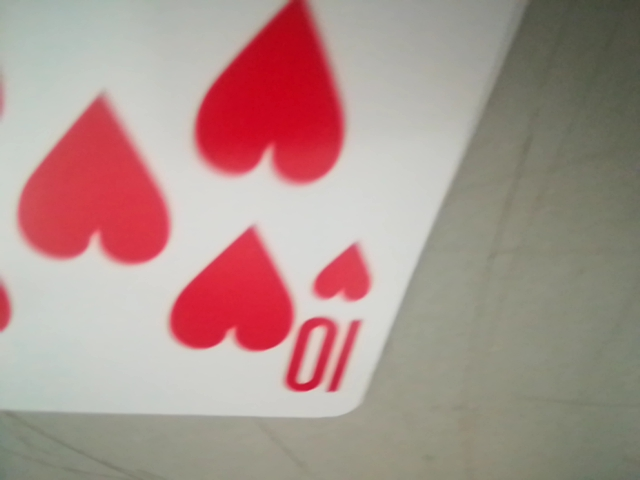hx 10: (286, 236, 399, 403)
